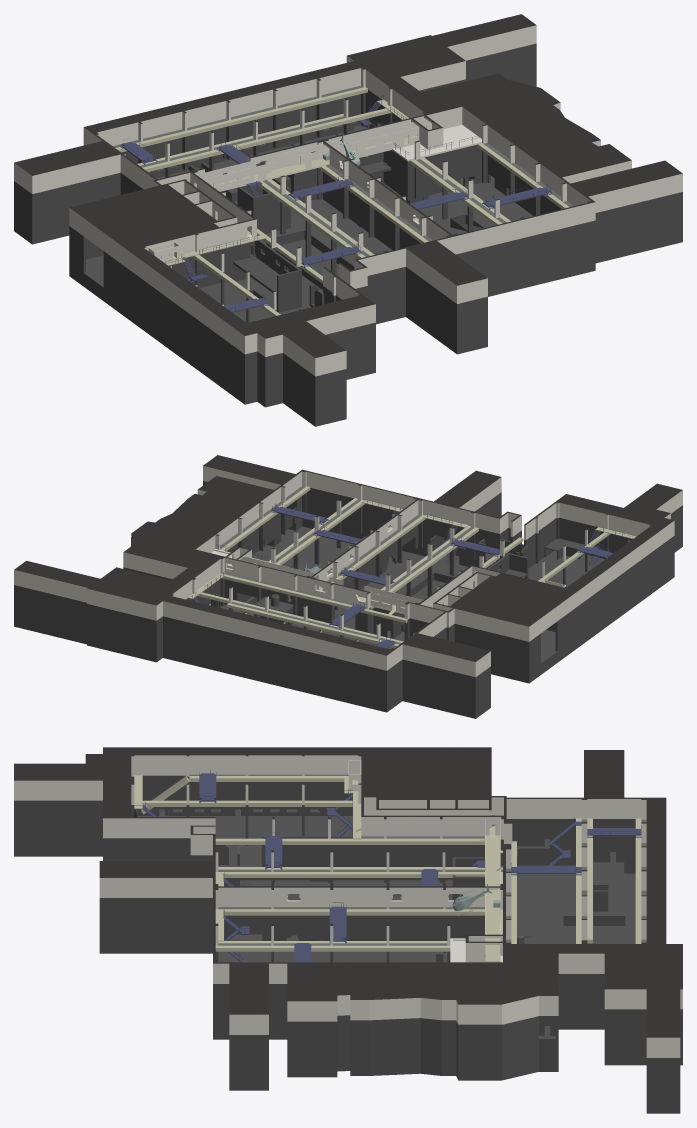
The model's file is factory_third_floor.glb.
3 views of the same model, one above another, from view 1: azimuth 30°, elevation 25°; view 2: azimuth 150°, elevation 25°; view 3: azimuth 270°, elevation 25° (orthographic). The views are drawn at different scales.
Visible parts, largest first — view 1: root; view 2: root; view 3: root.
Boxes of the visible parts, x1=… form: root: x1=14, y1=14, x2=682, y2=426; root: x1=14, y1=455, x2=682, y2=718; root: x1=14, y1=747, x2=682, y2=1113.
Bounding box in the file's own units: 246 × 34.02 × 239.
Materials: 2 (2 with a texture image).
